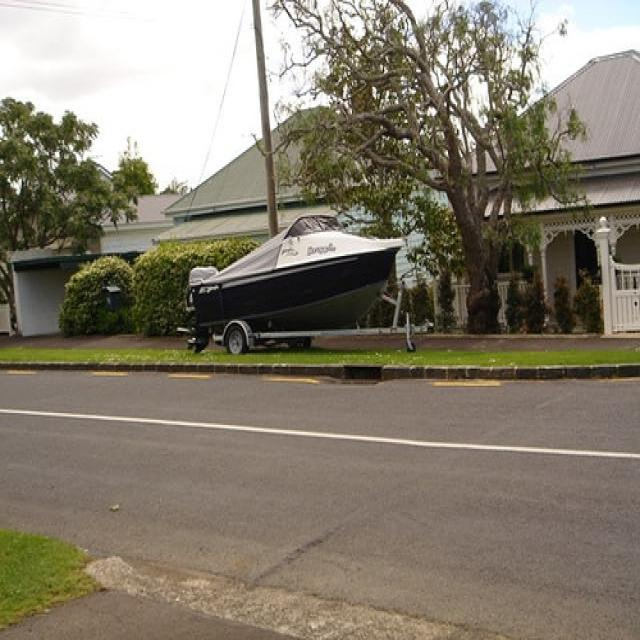boat: (178, 210, 403, 350)
